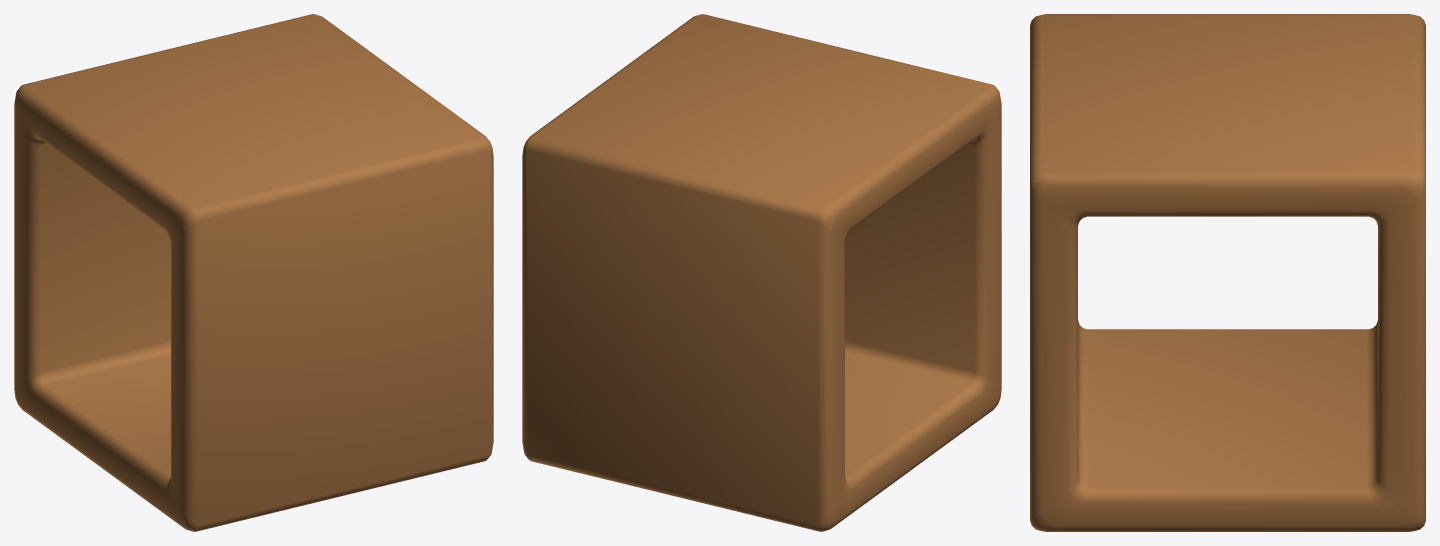
File: torontoCubeThing.fbx
3 views of the same model, side by side, from view 1: azimuth 30°, elevation 25°; view 2: azimuth 150°, elevation 25°; view 3: azimuth 270°, elevation 25° (orthographic). The views are drawn at different scales.
Visible parts, largest first — view 1: toronto-cube-stand; view 2: toronto-cube-stand; view 3: toronto-cube-stand.
Boxes of the visible parts, x1,y1,x2,y2 form: toronto-cube-stand: (14, 14, 493, 531); toronto-cube-stand: (522, 14, 1001, 531); toronto-cube-stand: (1030, 14, 1425, 531).
Bounding box in the file's own units: 275 × 275 × 275.
